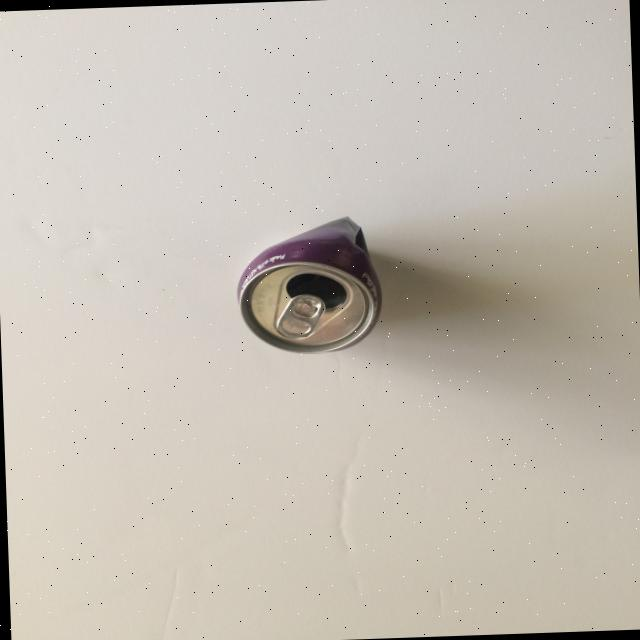metal: (232, 214, 384, 356)
